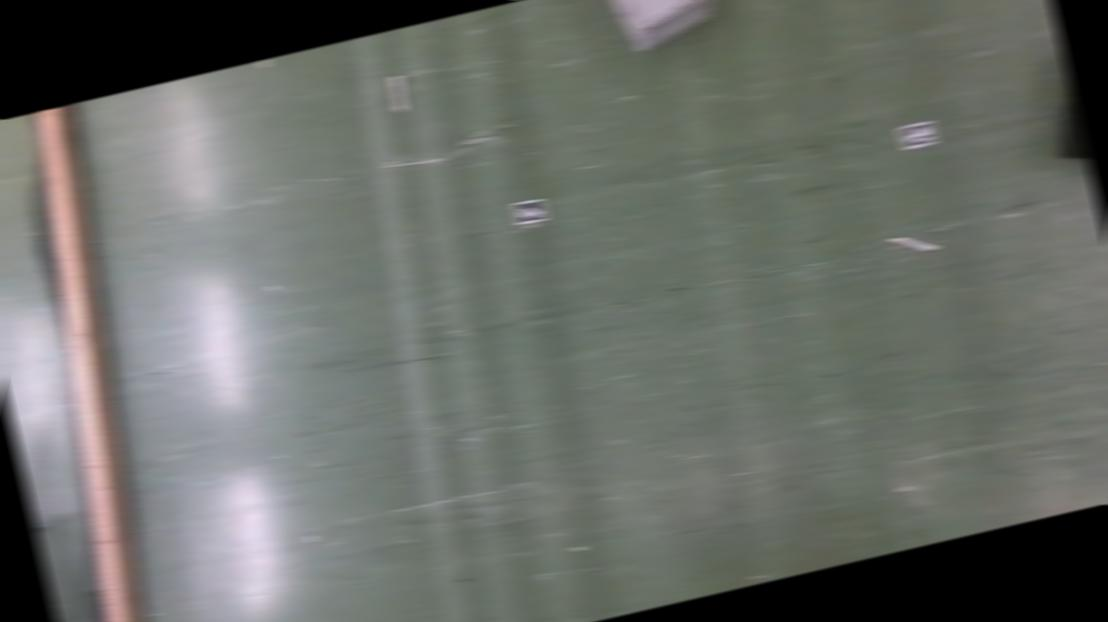probes: (889, 229, 938, 259)
rako: (1034, 33, 1094, 178), (601, 0, 732, 57)
